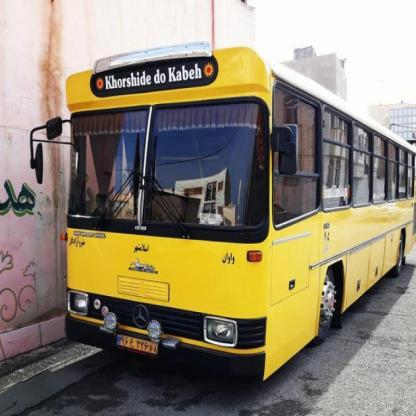Bus: (31, 36, 416, 372)
